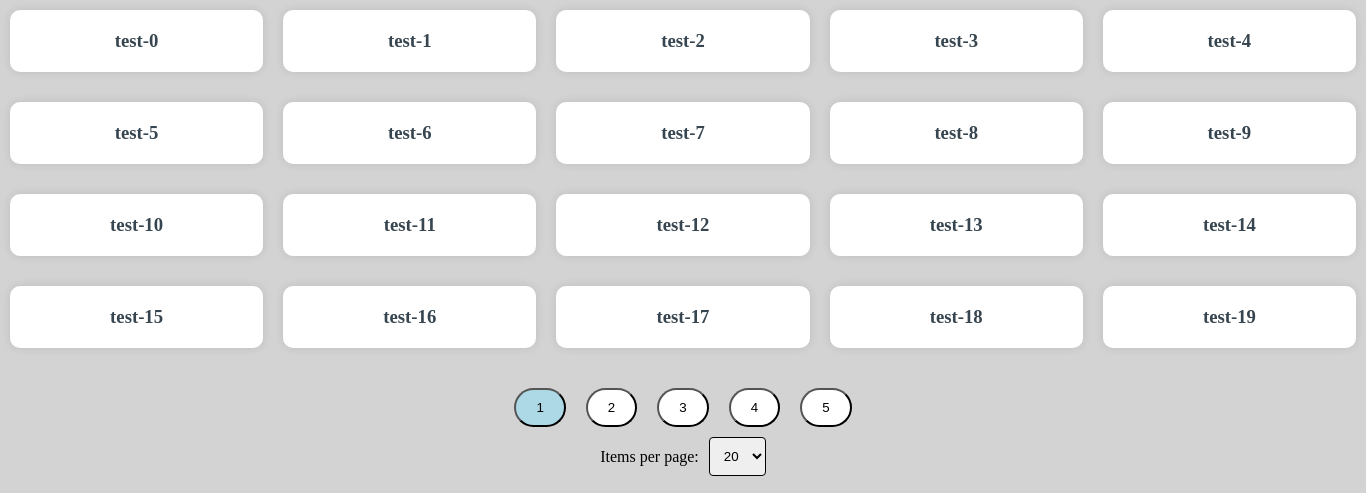
Test: List › renders the correct cards based on current page
Click the button "2" at (612, 408), box [586, 388, 637, 427]
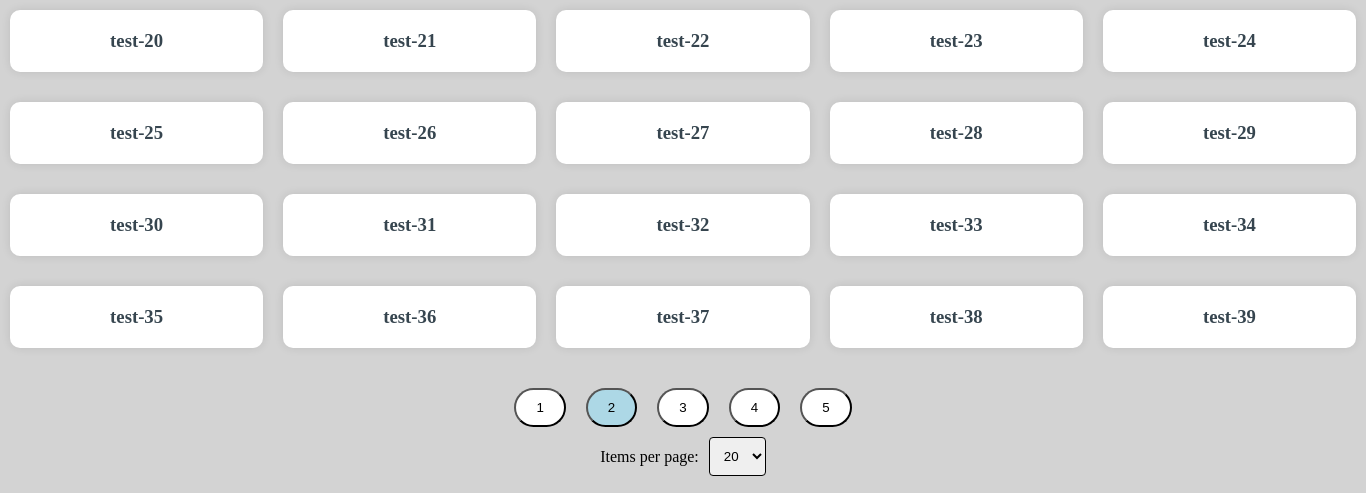
Now the heading "test-25" is shown, box [110, 122, 163, 144]
